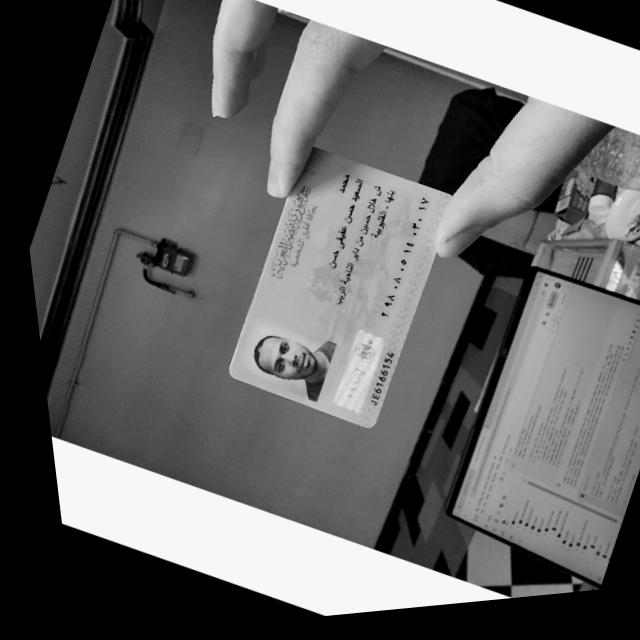front: (203, 128, 484, 438)
